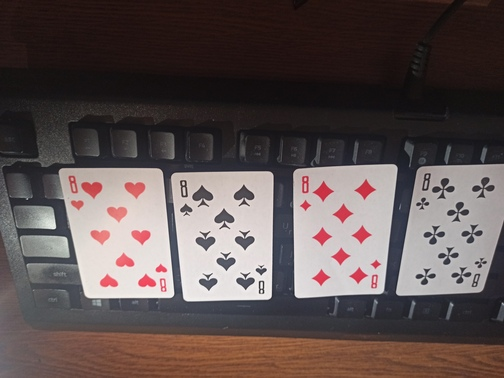eightclubs: (397, 164, 501, 300)
eightdiamonds: (290, 164, 392, 299)
eighthearts: (56, 164, 174, 303)
eightspades: (170, 170, 274, 302)
